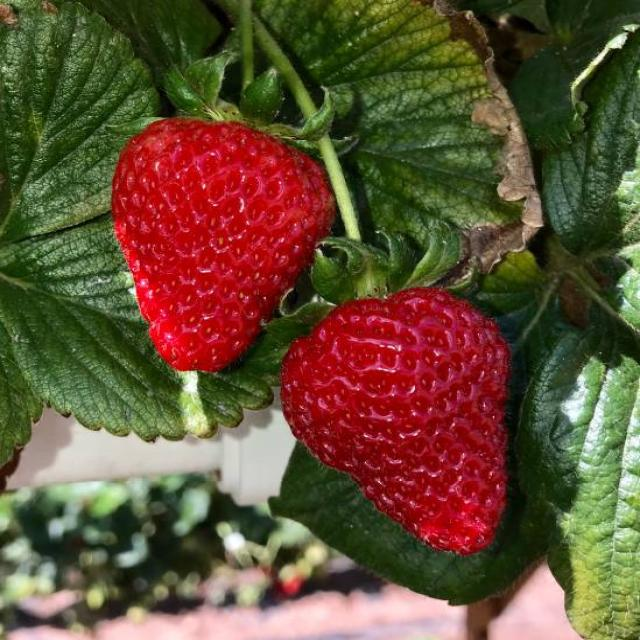Healthy Fruit: (278, 287, 510, 555), (113, 120, 338, 369)
